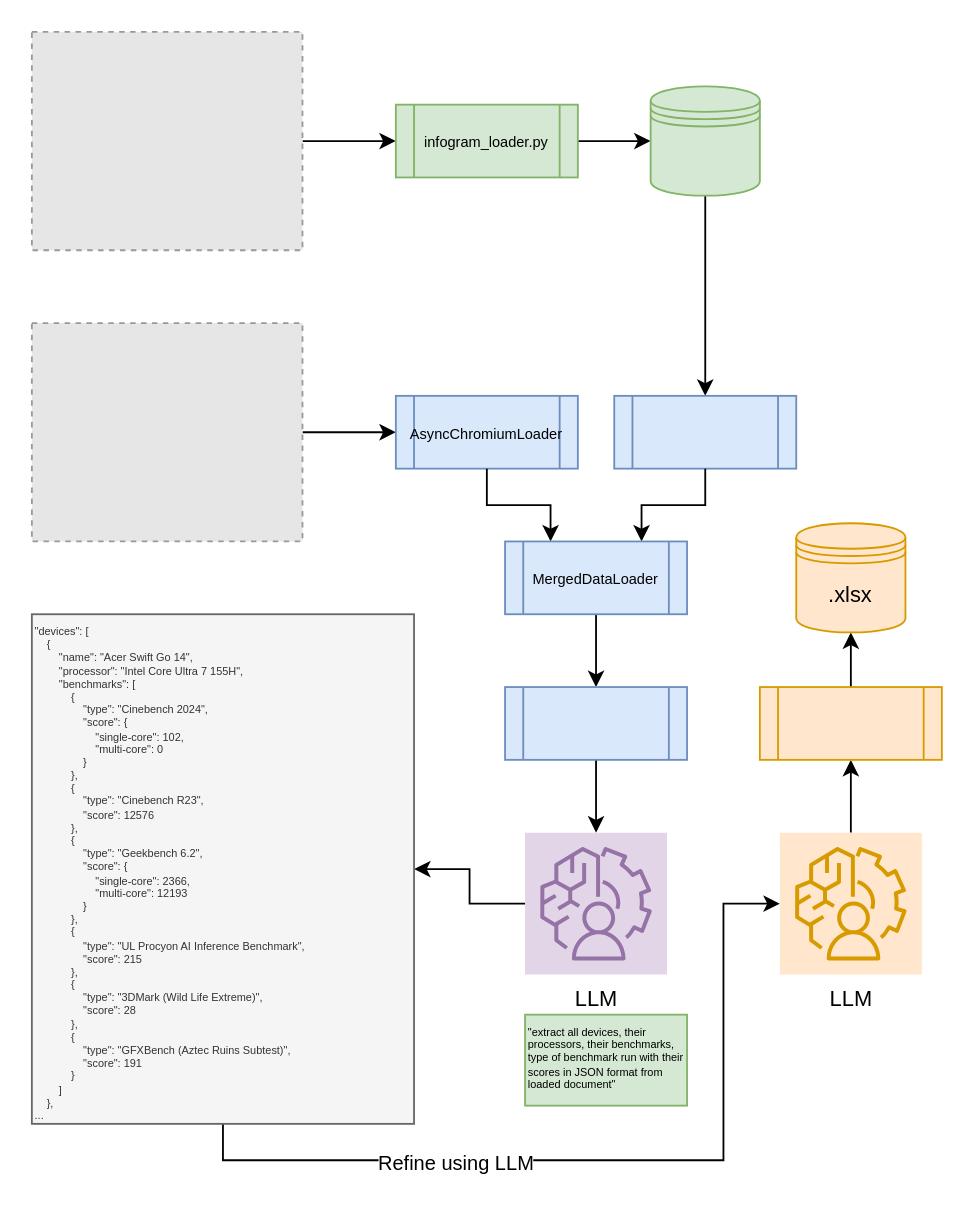
Image size: 974x1207. Some labels were removed from this diagram. Grey dashed boxes stand in for pictures. The shapes that lost their labels are listed below. From the top down, each one's centre as x and y in pixels, then its label:
point (704, 140): HTML
point (704, 431): BSHTMLLoader
point (595, 722): Transforma and Split
point (850, 722): Generate Spreadsheet
